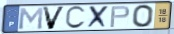C: (64, 5, 87, 30)
M: (18, 7, 45, 31)
O: (131, 4, 155, 29)
P: (108, 5, 131, 29)
V: (41, 6, 67, 31)
X: (86, 5, 111, 30)
